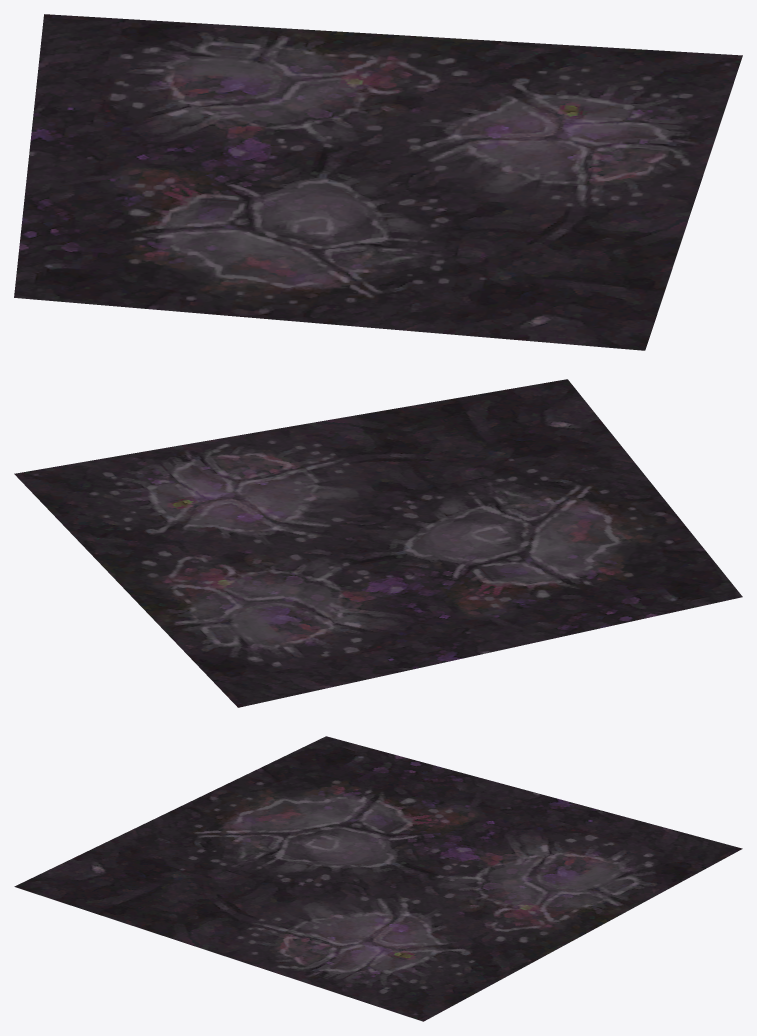
The model's file is cave_floor_mushrooms_29.fbx.
3 views of the same model, one above another, from view 1: azimuth 30°, elevation 25°; view 2: azimuth 150°, elevation 25°; view 3: azimuth 270°, elevation 25° (orthographic). The views are drawn at different scales.
Parts seen in each view (by area): view 1: cave_tileset/Floormushrooms_04_mat; view 2: cave_tileset/Floormushrooms_04_mat; view 3: cave_tileset/Floormushrooms_04_mat.
Boxes of the visible parts, x1,y1,x2,y2 form: cave_tileset/Floormushrooms_04_mat: (14, 14, 742, 350); cave_tileset/Floormushrooms_04_mat: (14, 379, 742, 707); cave_tileset/Floormushrooms_04_mat: (14, 736, 742, 1021).
Bounding box in the file's own units: 6.14 × 0 × 6.62.
